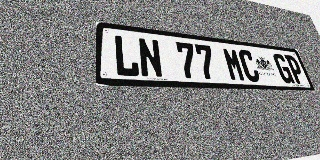7: (174, 42, 200, 80), (193, 44, 219, 80)
C: (237, 49, 261, 82)
G: (272, 53, 295, 84)
L: (113, 34, 140, 77)
M: (222, 47, 246, 82)
N: (137, 37, 164, 78)
P: (284, 55, 307, 84)
